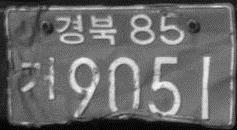0: (108, 55, 141, 118)
1: (200, 53, 212, 123)
5: (147, 55, 183, 119), (159, 12, 185, 45)
8: (128, 13, 156, 44)
9: (67, 55, 100, 118)
거: (19, 55, 57, 102)
경북_O: (55, 12, 119, 45)
